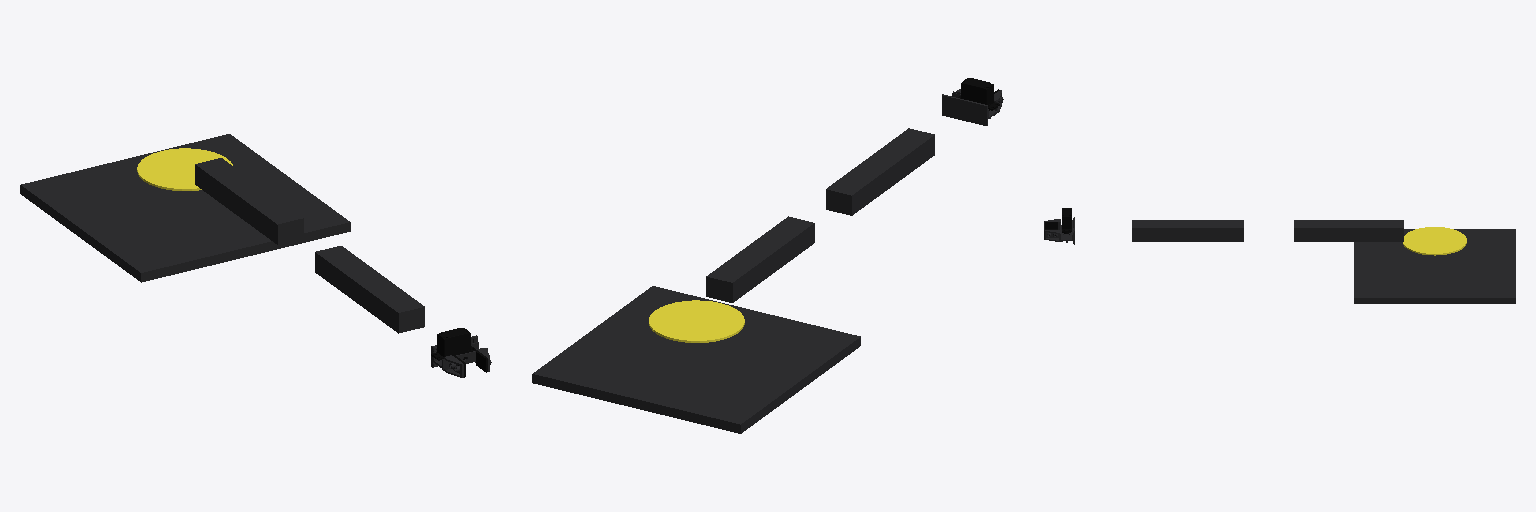
The robot description file, URDF, robot "so_arm":
<?xml version="1.0" ?>
<robot name="so_arm" xmlns:xacro="http://ros.org/wiki/xacro">
  <material name="White">
    <color rgba="0.87 0.90 0.87 1.0"/>
  </material>
  <material name="Black">
    <color rgba="0.08 0.08 0.08 1.0"/>
  </material>
  <material name="Gray">
    <color rgba="0.2 0.2 0.21 1.0"/>
  </material>
  <material name="Green">
    <color rgba="0.22 0.32 0.14 1.0"/>
  </material>
  <link name="robot_base_footprint"/>
  <link name="arm_base_link">
    <visual>
      <origin rpy="0 0 0" xyz="0 0 0"/>
      <geometry>
        <box size="0.30 0.30 0.013"/>
      </geometry>
      <material name="Gray"/>
    </visual>
  </link>
  <joint name="arm_base_joint" type="fixed">
    <origin xyz="0.0 0.0 0.0065"/>
    <parent link="robot_base_footprint"/>
    <child link="arm_base_link"/>
  </joint>
  <joint name="arm_shoulder_pan_servo_joint" type="fixed">
    <origin rpy="-1.570795 0 1.570795" xyz="0 0.01 0.0265"/>
    <parent link="arm_base_link"/>
    <child link="arm_shoulder_pan_servo_link"/>
  </joint>
  <link name="arm_shoulder_pan_servo_link">
    <!--
    <inertial>
      <mass value="0.055"/>
      <origin xyz="0 0 0"/>
      <inertia ixx="0.000017012" ixy="0.0" ixz="0.0" iyy="0.000013258" iyz="0.0" izz="0.000009483"/>
    </inertial>
    -->
    <visual>
      <origin rpy="0 0 0" xyz=" 0 0 0 "/>
      <geometry>
        <mesh filename="package://so_arm_description/meshes/ax12_box.stl" scale="0.001 0.001 0.001"/>
      </geometry>
      <material name="Black"/>
    </visual>
    <!--
    <collision>
      <origin rpy="0 0 0" xyz="0.0 0.0 -0.01241"/>
      <geometry>
        <box size="0.025 0.038 0.04762"/>
      </geometry>
    </collision>
    -->
  </link>
  <joint name="shoulder_plate_rotate_joint" type="revolute">
    <origin rpy="-1.570795 0 0" xyz="-0.01 -0.026 0"/>
    <axis xyz="0 0 1"/>
    <!-- limit effort="30" lower="-2.2" upper="2.16" velocity="1.571"/ -->
    <limit effort="100" lower="-2.2" upper="2.16" velocity="4.571"/>
    <dynamics friction="0.13"/>
    <parent link="arm_shoulder_pan_servo_link"/>
    <child link="shoulder_plate_link"/>
  </joint>
  <link name="shoulder_plate_link">
    <visual>
      <origin rpy="0 0 0" xyz="0 0 0"/>
      <geometry>
        <cylinder radius="0.06" length="0.003"/>
      </geometry>
      <material name="Grey"/>
    </visual>
  </link>
  <joint name="shoulder_plate_joint" type="fixed">
    <origin rpy="-1.570795 0 0" xyz="0.012 0 -0.0015"/>
    <parent link="shoulder_plate_link"/>
    <child link="shoulder_pan_link"/>
  </joint>
  <link name="shoulder_pan_link">
    <!--
    <inertial>
      <mass value="0.008"/>
      <origin xyz="0 0 0"/>
      <inertia ixx="0.000001" ixy="0.0" ixz="0.0" iyy="0.000001" iyz="0.0" izz="0.000001"/>
    </inertial>
    -->
    <visual>
      <origin rpy="0 0 0" xyz=" 0 0 0 "/>
      <geometry>
        <mesh filename="package://so_arm_description/meshes/F3.stl" scale="0.001 0.001 0.001"/>
      </geometry>
      <material name="Gray"/>
    </visual>
    <!--
    <collision>
      <origin rpy="0 0 0" xyz="0.0 0.0 -0.0045"/>
      <geometry>
        <box size="0.025 0.038 0.009"/>
      </geometry>
    </collision>
    -->
  </link>
  <gazebo reference="shoulder_pan_link">
    <material>Gazebo/Gray</material>
    <selfCollide>true</selfCollide>
    <gravity>true</gravity>
  </gazebo>
  <joint name="shoulder_lift_servo_joint" type="fixed">
    <origin rpy="-1.570795 0 0" xyz="-0.0025 0.0195 0"/>
    <parent link="shoulder_pan_link"/>
    <child link="shoulder_lift_servo_link"/>
  </joint>
  <link name="shoulder_lift_servo_link">
    <!--
    <inertial>
      <mass value="0.055"/>
      <origin xyz="0 0 0"/>
      <inertia ixx="0.000017012" ixy="0.0" ixz="0.0" iyy="0.000013258" iyz="0.0" izz="0.000009483"/>
    </inertial>
    -->
    <visual>
      <origin rpy="0 0 0" xyz=" 0 0 0 "/>
      <geometry>
        <mesh filename="package://so_arm_description/meshes/ax12_box.stl" scale="0.001 0.001 0.001"/>
      </geometry>
      <material name="Black"/>
    </visual>
    <!--
    <collision>
      <origin rpy="0 0 0" xyz="0.0 0.0 -0.01241"/>
      <geometry>
        <box size="0.025 0.038 0.04762"/>
      </geometry>
    </collision>
    -->
  </link>
  <gazebo reference="shoulder_lift_servo_link">
    <material>Gazebo/Black</material>
    <selfCollide>true</selfCollide>
    <gravity>true</gravity>
  </gazebo>
  <joint name="shoulder_lift_joint" type="revolute">
    <origin rpy="1.570795 1.570795 0" xyz="-0.012 0 0"/>
    <axis xyz="0 0 1"/>
    <limit effort="100" lower="-2.0" upper="0.05" velocity="4.571"/>
    <dynamics friction="0.13"/>
    <parent link="shoulder_lift_servo_link"/>
    <child link="shoulder_lift_link"/>
  </joint>
  <link name="shoulder_lift_link">
    <!--
    <inertial>
      <mass value="0.016"/>
      <origin xyz="0 0 0"/>
      <inertia ixx="0.000001" ixy="0.0" ixz="0.0" iyy="0.000001" iyz="0.0" izz="0.000001"/>
    </inertial>
    -->
    <visual>
      <origin rpy="0 0 0" xyz=" 0 0 0 "/>
      <geometry>
        <mesh filename="package://so_arm_description/meshes/F4.stl" scale="0.001 0.001 0.001"/>
      </geometry>
      <material name="Gray"/>
    </visual>
    <!--
    <collision>
      <origin rpy="0 0 0" xyz="0.0 0.0 0.0215"/>
      <geometry>
        <box size="0.028 0.0485 0.065"/>
      </geometry>
    </collision>
    -->
  </link>
  <gazebo reference="shoulder_lift_link">
    <material>Gazebo/Gray</material>
    <selfCollide>true</selfCollide>
    <gravity>true</gravity>
  </gazebo>
  <joint name="upper_arm_joint" type="fixed">
    <origin rpy="1.570795 0 0" xyz="0 -0.1565 0"/>
    <parent link="shoulder_lift_link"/>
    <child link="upper_arm_link"/>
  </joint>
  <link name="upper_arm_link">
    <!-- YYY
    <inertial>
      <mass value="0.004"/>
      <origin xyz="0 0 0"/>
      <inertia ixx="0.000001" ixy="0.0" ixz="0.0" iyy="0.000001" iyz="0.0" izz="0.000001"/>
    </inertial>
    -->
    <visual>
      <origin rpy="0 0 0" xyz=" 0 0 0 "/>
      <geometry>
        <box size="0.028 0.038 0.205"/>
      </geometry>
      <material name="Gray"/>
    </visual>
    <!--
    <collision>
      <origin rpy="0 0 0" xyz="0.0 0.0 0.0"/>
      <geometry>
        <box size="0.028 0.038 0.205"/>
      </geometry>
    </collision>
    -->
  </link>
  <gazebo reference="upper_arm_link">
    <material>Gazebo/Gray</material>
    <selfCollide>true</selfCollide>
    <gravity>true</gravity>
  </gazebo>
  <!-- elbow joint -->
  <joint name="elbow_flex_servo_joint" type="fixed">
    <origin rpy="0 1.570795 3.14159" xyz="0 0 0.129"/>
    <parent link="upper_arm_link"/>
    <child link="elbow_flex_servo_link"/>
  </joint>
  <link name="elbow_flex_servo_link">
    <!--
    <inertial>
      <mass value="0.055"/>
      <origin xyz="0 0 0"/>
      <inertia ixx="0.000017012" ixy="0.0" ixz="0.0" iyy="0.000013258" iyz="0.0" izz="0.000009483"/>
    </inertial>
    -->
    <visual>
      <origin rpy="0 0 0" xyz=" 0 0 0 "/>
      <geometry>
        <mesh filename="package://so_arm_description/meshes/ax12_box.stl" scale="0.001 0.001 0.001"/>
      </geometry>
      <material name="Black"/>
    </visual>
    <!--
    <collision>
      <origin rpy="0 0 0" xyz="0.0 0.0 -0.01241"/>
      <geometry>
        <box size="0.025 0.038 0.04762"/>
      </geometry>
    </collision>
    -->
  </link>
  <gazebo reference="elbow_flex_servo_link">
    <material>Gazebo/Black</material>
    <selfCollide>true</selfCollide>
    <gravity>true</gravity>
  </gazebo>
  <joint name="elbow_flex_joint" type="revolute">
    <origin rpy="1.570795 1.570795 0" xyz="-0.012 0 0"/>
    <axis xyz="0 0 1"/>
    <limit effort="100" lower="0" upper="2.5" velocity="4.571"/>
    <dynamics friction="0.13"/>
    <parent link="elbow_flex_servo_link"/>
    <child link="elbow_flex_link"/>
  </joint>
  <link name="elbow_flex_link">
    <!--
    <inertial>
      <mass value="0.016"/>
      <origin xyz="0 0 0"/>
      <inertia ixx="0.000001" ixy="0.0" ixz="0.0" iyy="0.000001" iyz="0.0" izz="0.000001"/>
    </inertial>
    -->
    <visual>
      <origin rpy="0 0 0" xyz=" 0 0 0 "/>
      <geometry>
        <mesh filename="package://so_arm_description/meshes/F4.stl" scale="0.001 0.001 0.001"/>
      </geometry>
      <material name="Gray"/>
    </visual>
    <!--
    <collision>
      <origin rpy="0 0 0" xyz="0.0 0.0 0.0215"/>
      <geometry>
        <box size="0.028 0.0485 0.065"/>
      </geometry>
    </collision>
    -->
  </link>
  <gazebo reference="elbow_flex_link">
    <material>Gazebo/Gray</material>
    <selfCollide>true</selfCollide>
    <gravity>true</gravity>
  </gazebo>
  <joint name="lower_arm_joint" type="fixed">
    <origin rpy="1.570795 0 0" xyz="0 -0.158 0"/>
    <parent link="elbow_flex_link"/>
    <child link="lower_arm_link"/>
  </joint>
  <link name="lower_arm_link">
    <!-- YYY
    <inertial>
      <mass value="0.004"/>
      <origin xyz="0 0 0"/>
      <inertia ixx="0.000001" ixy="0.0" ixz="0.0" iyy="0.000001" iyz="0.0" izz="0.000001"/>
    </inertial>
    -->
    <visual>
      <origin rpy="0 0 0" xyz=" 0 0 0 "/>
      <geometry>
        <box size="0.028 0.038 0.208"/>
      </geometry>
      <material name="Gray"/>
    </visual>
    <!--
    <collision>
      <origin rpy="0 0 0" xyz="0.0 0.0 0.0"/>
      <geometry>
        <box size="0.028 0.038 0.208"/>
      </geometry>
    </collision>
    -->
  </link>
  <gazebo reference="lower_arm_link">
    <material>Gazebo/Gray</material>
    <selfCollide>true</selfCollide>
    <gravity>true</gravity>
  </gazebo>
  <joint name="wrist_flex_servo_joint" type="fixed">
    <origin rpy="0 1.570795 3.14159" xyz="0 0 0.1305"/>
    <parent link="lower_arm_link"/>
    <child link="wrist_flex_servo_link"/>
  </joint>
  <link name="wrist_flex_servo_link">
    <!--
    <inertial>
      <mass value="0.055"/>
      <origin xyz="0 0 0"/>
      <inertia ixx="0.000017012" ixy="0.0" ixz="0.0" iyy="0.000013258" iyz="0.0" izz="0.000009483"/>
    </inertial>
    -->
    <visual>
      <origin rpy="0 0 0" xyz=" 0 0 0 "/>
      <geometry>
        <mesh filename="package://so_arm_description/meshes/ax12_box.stl" scale="0.001 0.001 0.001"/>
      </geometry>
      <material name="Black"/>
    </visual>
    <!--
    <collision>
      <origin rpy="0 0 0" xyz="0.0 0.0 -0.01241"/>
      <geometry>
        <box size="0.025 0.038 0.04762"/>
      </geometry>
    </collision>
    -->
  </link>
  <gazebo reference="wrist_flex_servo_link">
    <material>Gazebo/Black</material>
    <selfCollide>true</selfCollide>
    <gravity>true</gravity>
  </gazebo>
  <joint name="wrist_flex_joint" type="revolute">
    <origin rpy="1.570795 1.570795 0" xyz="-0.012 0 0"/>
    <axis xyz="0 0 1"/>
    <limit effort="100" lower="-1.65" upper="1.65" velocity="4.571"/>
    <dynamics friction="0.13"/>
    <parent link="wrist_flex_servo_link"/>
    <child link="wrist_flex_link"/>
  </joint>
  <link name="wrist_flex_link">
    <!--
    <inertial>
      <mass value="0.010"/>
      <origin xyz="0 0 0"/>
      <inertia ixx="0.000001" ixy="0.0" ixz="0.0" iyy="0.000001" iyz="0.0" izz="0.000001"/>
    </inertial>
    -->
    <visual>
      <origin rpy="0 0 0" xyz=" 0 0 0 "/>
      <geometry>
        <mesh filename="package://so_arm_description/meshes/F2.stl" scale="0.001 0.001 0.001"/>
      </geometry>
      <material name="Gray"/>
    </visual>
    <!--
    <collision>
      <origin rpy="0 0 0" xyz="0.0 0.0 0.00775"/>
      <geometry>
        <box size="0.025 0.0485 0.0375"/>
      </geometry>
    </collision>
    -->
  </link>
  <gazebo reference="wrist_flex_link">
    <material>Gazebo/Gray</material>
    <selfCollide>true</selfCollide>
    <gravity>true</gravity>
  </gazebo>
  <joint name="wrist_pan_servo_joint" type="fixed">
    <origin rpy="0 1.570795 0" xyz="0 -0.046 -0.012"/>
    <parent link="wrist_flex_link"/>
    <child link="wrist_pan_servo_link"/>
  </joint>
  <link name="wrist_pan_servo_link">
    <!--
    <inertial>
      <mass value="0.055"/>
      <origin xyz="0 0 0"/>
      <inertia ixx="0.000017012" ixy="0.0" ixz="0.0" iyy="0.000013258" iyz="0.0" izz="0.000009483"/>
    </inertial>
    -->
    <visual>
      <origin rpy="0 0 0" xyz=" 0 0 0 "/>
      <geometry>
        <mesh filename="package://so_arm_description/meshes/ax12_box.stl" scale="0.001 0.001 0.001"/>
      </geometry>
      <material name="Black"/>
    </visual>
    <!--
    <collision>
      <origin rpy="0 0 0" xyz="0.0 0.0 -0.01241"/>
      <geometry>
        <box size="0.025 0.038 0.04762"/>
      </geometry>
    </collision>
    -->
  </link>
  <gazebo reference="wrist_pan_servo_link">
    <material>Gazebo/Black</material>
    <selfCollide>true</selfCollide>
    <gravity>true</gravity>
  </gazebo>
  <joint name="wrist_pan_joint" type="revolute">
    <origin rpy="1.570795 1.570795 0" xyz="-0.012 -0.022 0"/>
    <axis xyz="0 0 1"/>
    <limit effort="100" lower="-2.2" upper="2.2" velocity="4.571"/>
    <dynamics friction="0.13"/>
    <parent link="wrist_pan_servo_link"/>
    <child link="wrist_pan_link"/>
  </joint>
  <link name="wrist_pan_link">
    <!-- YYY
    <inertial>
      <mass value="0.004"/>
      <origin xyz="0 0 0"/>
      <inertia ixx="0.000001" ixy="0.0" ixz="0.0" iyy="0.000001" iyz="0.0" izz="0.000001"/>
    </inertial>
    -->
    <visual>
      <origin rpy="0 0 0" xyz=" 0 0 0 "/>
      <geometry>
        <box size="0.028 0.065 0.003"/>
      </geometry>
      <material name="Gray"/>
    </visual>
    <!--
    <collision>
      <origin rpy="0 0 0" xyz="0.0 0.0 0.0"/>
      <geometry>
        <box size="0.028 0.065 0.003"/>
      </geometry>
    </collision>
    -->
  </link>

  <!-- 0 1.570795 3.14159 -->
  <joint name="gripper_wrist_joint" type="fixed">
    <origin rpy="1.570795 -1.570795 0" xyz="0.007 0 0.003"/>
    <parent link="wrist_pan_link"/>
    <child link="gripper_wrist_link"/>
  </joint>
  <link name="gripper_wrist_link">
    <visual>
      <origin rpy="0 0 0" xyz="0 0 0"/>
      <geometry>
        <mesh filename="package://so_arm_description/meshes/gripper_wrist.stl" scale="0.001 0.001 0.001"/>
      </geometry>
      <material name="Gray"/>
    </visual>
  </link>
  <joint name="gripper_servo_joint" type="fixed">
    <origin rpy="0 1.570795 1.570795" xyz="0.0455 -0.002 -0.069"/>
    <parent link="gripper_wrist_link"/>
    <child link="gripper_servo_link"/>
  </joint>
  <link name="gripper_servo_link">
    <!-- YYY
    <inertial>
      <mass value="0.055"/>
      <origin xyz="0 0 0"/>
      <inertia ixx="0.000017012" ixy="0.0" ixz="0.0" iyy="0.000013258" iyz="0.0" izz="0.000009483"/>
    </inertial>
    -->
    <visual>
      <origin rpy="0 0 0" xyz=" 0 0 0 "/>
      <geometry>
        <mesh filename="package://so_arm_description/meshes/servo.stl" scale="0.001 0.001 0.001"/>
      </geometry>
      <material name="Black"/>
    </visual>
    <!--
    <collision>
      <origin rpy="0 0 0" xyz="0.0 0.0 -0.01241"/>
      <geometry>
        <box size="0.02 0.038 0.054"/>
      </geometry>
    </collision>
    -->
  </link>
  <gazebo reference="gripper_servo_link">
    <material>Gazebo/Black</material>
    <selfCollide>true</selfCollide>
    <gravity>true</gravity>
  </gazebo>
  <!-- Finger 1 -->
  <joint name="gripper_left_joint" type="prismatic">
    <origin rpy="3.14159 0 0" xyz="0.0265 0.0135 -0.005"/>
    <axis xyz="0 0 1"/>
    <limit effort="100" lower="0.002" upper="0.030" velocity="5"/>
    <parent link="gripper_wrist_link"/>
    <child link="gripper_left_finger_link"/>
  </joint>
  <link name="gripper_left_finger_link">
    <visual>
      <origin rpy="0 0 0" xyz="0 0 0"/>
      <geometry>
        <mesh filename="package://so_arm_description/meshes/gripper_finger_left.stl" scale="0.001 0.001 0.001"/>
      </geometry>
      <material name="Gray"/>
    </visual>
  </link>
  <joint name="gripper_left_pad_joint" type="fixed">
    <origin rpy="3.14159 0 1.570795" xyz="-0.002 0.052 -0.002"/>
    <parent link="gripper_left_finger_link"/>
    <child link="gripper_left_pad_link"/>
  </joint>
  <link name="gripper_left_pad_link">
    <visual>
      <origin rpy="0 0 0" xyz="0 0 0"/>
      <geometry>
        <mesh filename="package://so_arm_description/meshes/gripper_finger_pad.stl" scale="0.001 0.001 0.001"/>
      </geometry>
      <material name="Black"/>
    </visual>
  </link>
  <!-- Using Mimic -->
  <!-- gripper 2 joint -->
  <joint name="gripper_right_joint" type="prismatic">
    <origin rpy="0 0 0" xyz="0.0265 0.00 0.002"/>
    <axis xyz="0 0 1"/>
    <limit effort="100" velocity="5" lower="0.002" upper="0.030"/>
    <parent link="gripper_wrist_link"/>
    <child link="gripper_right_finger_link"/>
    <mimic joint="gripper_left_joint" multiplier="1"  offset = "0"/>
  </joint>
  <link name="gripper_right_finger_link">
    <visual>
      <origin rpy="0 0 0" xyz="0 0 0"/>
      <geometry>
        <mesh filename="package://so_arm_description/meshes/gripper_finger_right.stl" scale="0.001 0.001 0.001"/>
      </geometry>
      <material name="Gray"/>
    </visual>
  </link>
  <joint name="gripper_right_pad_joint" type="fixed">
    <origin rpy="3.14159 0 1.570795" xyz="-0.002 0.052 -0.002"/>
    <parent link="gripper_right_finger_link"/>
    <child link="gripper_right_pad_link"/>
  </joint>
  <link name="gripper_right_pad_link">
    <visual>
      <origin rpy="0 0 0" xyz="0 0 0"/>
      <geometry>
        <mesh filename="package://so_arm_description/meshes/gripper_finger_pad.stl" scale="0.001 0.001 0.001"/>
      </geometry>
      <material name="Black"/>
    </visual>
  </link>

</robot>

--- Facts derived from the render (not from the file) ---
3 views of the same robot in one strip: view 1: azimuth 30°, elevation 25°; view 2: azimuth 150°, elevation 25°; view 3: azimuth 270°, elevation 25° (orthographic).
Model so_arm with 21 links and 20 joints (5 revolute, 2 prismatic, 13 fixed), rooted at robot_base_footprint, posed joints at zero except 2 at the middle of their limits (gripper_left_joint = 0.016, gripper_right_joint = 0.016).
Links seen in each view (by area): view 1: arm_base_link, lower_arm_link, upper_arm_link, shoulder_plate_link, gripper_servo_link; view 2: arm_base_link, lower_arm_link, upper_arm_link, shoulder_plate_link, wrist_pan_link, gripper_servo_link; view 3: arm_base_link, lower_arm_link, upper_arm_link, shoulder_plate_link.
Boxes of the visible links, <box> form: arm_base_link: <box>20,134,350,282</box>; lower_arm_link: <box>315,246,424,333</box>; upper_arm_link: <box>195,158,303,244</box>; shoulder_plate_link: <box>137,148,232,190</box>; gripper_servo_link: <box>431,328,475,360</box>; arm_base_link: <box>532,286,860,433</box>; lower_arm_link: <box>826,128,934,215</box>; upper_arm_link: <box>706,216,814,302</box>; shoulder_plate_link: <box>649,300,744,342</box>; wrist_pan_link: <box>942,94,987,125</box>; gripper_servo_link: <box>958,78,999,110</box>; arm_base_link: <box>1354,229,1515,303</box>; lower_arm_link: <box>1132,220,1243,241</box>; upper_arm_link: <box>1294,220,1403,241</box>; shoulder_plate_link: <box>1403,227,1466,255</box>.
Bounding box of the posed robot: 0.3 × 0.8745 × 0.1139 m (x, y, z).
Meshes: 9 distinct files referenced, 6 mesh visuals loaded (5 binary STL); not drawn: 9 (reference not matched to a file when rendering).